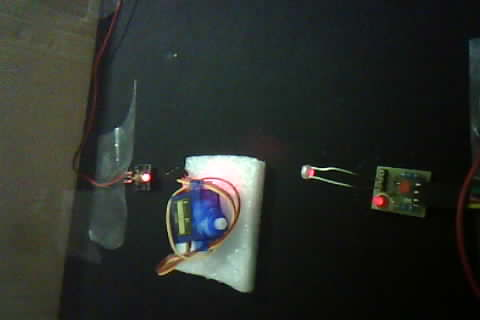motor: (151, 149, 255, 284)
